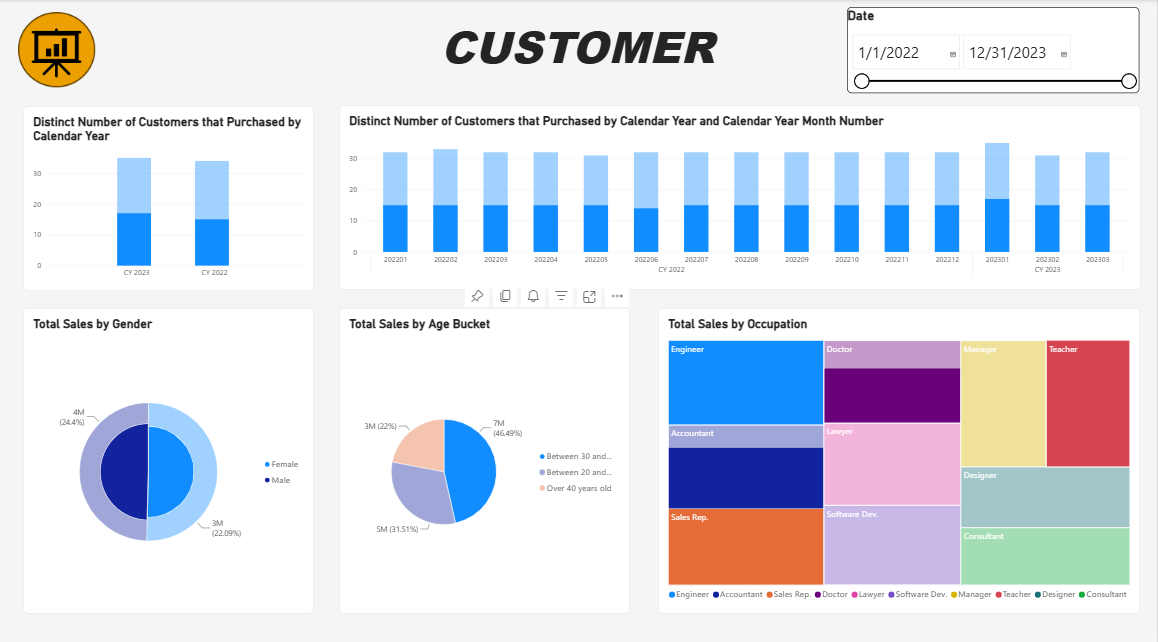

Layout of this report page (visuals, bound fields, positions):
{"tool":"powerbi","page":{"name":"Customer","canvas":[1920,1080],"ordinal":5},"visuals":[{"type":"image","box":[21.7,21.7,147.5,125],"z":3000},{"type":"slicer","title":"Date","fields":{"Values":["Date.Date"]},"box":[1407.5,12.5,485,142.5],"z":3002},{"type":"textbox","box":[733.3,26.7,580,116.7],"z":3003},{"type":"clusteredColumnChart","fields":{"Category":["Date.Calendar Year"],"Y":["_Measures.Distinct Number of Customers that Purchased"]},"box":[40,177.5,483.3,306.7],"z":3004},{"type":"clusteredColumnChart","fields":{"Category":["Date.Calendar Year","Date.Calendar Year Month Number"],"Y":["_Measures.Distinct Number of Customers that Purchased"]},"box":[563.3,176.7,1330,306.7],"z":3005},{"type":"pieChart","fields":{"Category":["Customers.Gender"],"Y":["_Measures.Total Sales"]},"box":[40,513.3,483.3,506.7],"z":3006},{"type":"pieChart","fields":{"Category":["Customers.Age Bucket"],"Y":["_Measures.Total Sales"]},"box":[563.3,513.3,483.3,506.7],"z":3007},{"type":"treemap","fields":{"Group":["Customers.Occupation"],"Values":["_Measures.Total Sales"]},"box":[1093.3,513.3,800,506.7],"z":3008}]}

Visuals, with their boxes in screenshot pixels (x1, y1, x2, y2), scaled from the page's 1920x1080 canvas onto the 1158x642 screenshot:
image: [left=13, top=13, right=102, bottom=87]
"Date" slicer: [left=849, top=7, right=1141, bottom=92]
textbox: [left=442, top=16, right=792, bottom=85]
clusteredColumnChart - Date.Calendar Year x _Measures.Distinct Number of Customers that Purchased: [left=24, top=106, right=316, bottom=288]
clusteredColumnChart - Date.Calendar Year x Date.Calendar Year Month Number: [left=340, top=105, right=1142, bottom=287]
pieChart - Customers.Gender x _Measures.Total Sales: [left=24, top=305, right=316, bottom=606]
pieChart - Customers.Age Bucket x _Measures.Total Sales: [left=340, top=305, right=631, bottom=606]
treemap - Customers.Occupation x _Measures.Total Sales: [left=659, top=305, right=1142, bottom=606]
